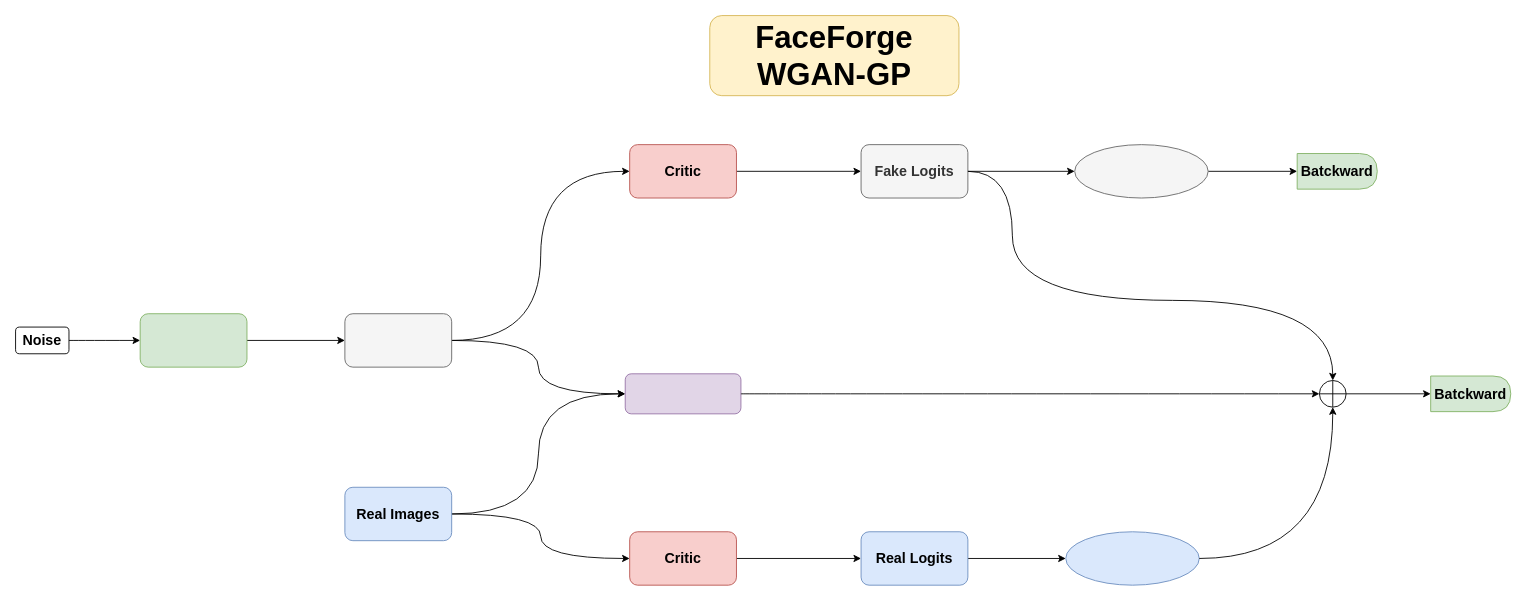
Some shapes in this 1526 by 601 pixel diagram are drawn without their labels. Each missing label, with the centre of its shape:
"Critic Loss" belongs at point 1132,558.
"Fake Images" belongs at point 398,340.
"Gen Loss" belongs at point 1141,171.
"Generator" belongs at point 193,340.
"Weighted Gradient Penalty" belongs at point 682,393.
